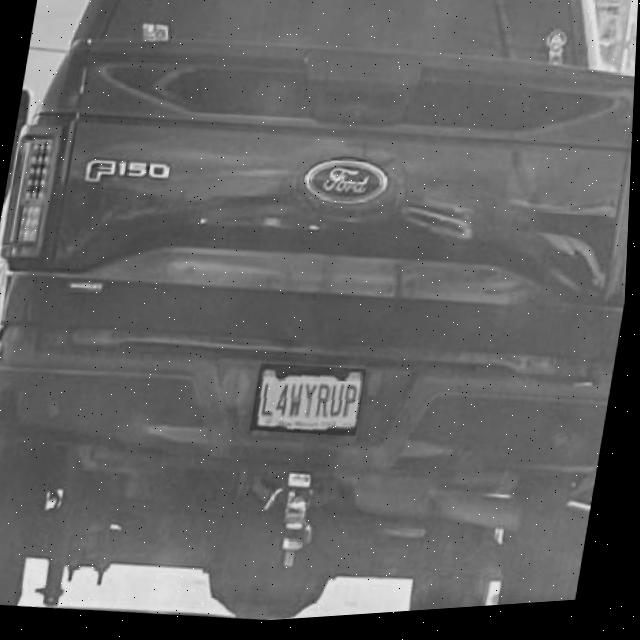LicensePlate: (256, 369, 368, 438)
